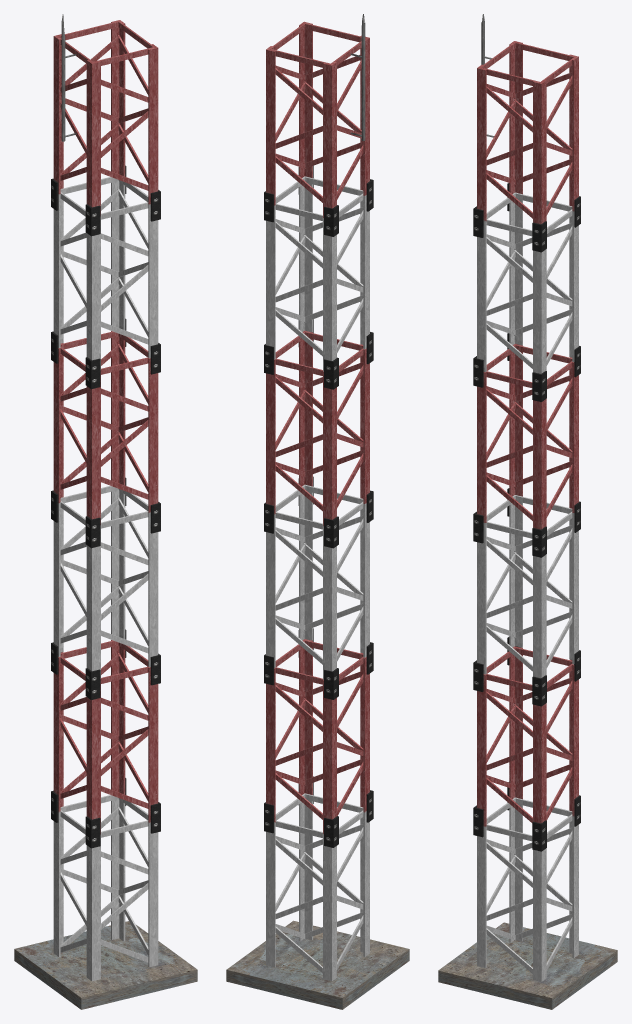
The model's file is radio_tower.glb.
3 renders of one model, left to right at view 1: azimuth 30°, elevation 25°; view 2: azimuth 150°, elevation 25°; view 3: azimuth 330°, elevation 25°, orthographic. The views are drawn at different scales.
Visible parts, largest first — view 1: Torre.005, Torre.002, Torre, Torre.004, Torre.003, Torre.001, BaseConcreto, PinoJuncao, PinoJuncao.004, PinoJuncao.001, PinoJuncao.002, PinoJuncao.003 (+1 smaller); view 2: Torre.005, Torre.002, Torre, Torre.004, Torre.003, Torre.001, BaseConcreto, PinoJuncao.002, PinoJuncao.004, PinoJuncao.003, PinoJuncao.001, PinoJuncao (+1 smaller); view 3: Torre.005, Torre.002, Torre, Torre.004, Torre.003, Torre.001, BaseConcreto, PinoJuncao.001, PinoJuncao.004, PinoJuncao.002, PinoJuncao.003, PinoJuncao.
Part boxes in pixels (bbox=[...]): Torre.005: bbox=[53, 20, 158, 215]; Torre.002: bbox=[53, 331, 158, 524]; Torre: bbox=[53, 795, 158, 981]; Torre.004: bbox=[53, 177, 158, 369]; Torre.003: bbox=[53, 486, 158, 678]; Torre.001: bbox=[53, 640, 158, 834]; BaseConcreto: bbox=[14, 921, 197, 1009]; PinoJuncao: bbox=[51, 778, 160, 848]; PinoJuncao.004: bbox=[51, 165, 160, 236]; PinoJuncao.001: bbox=[51, 629, 160, 699]; PinoJuncao.002: bbox=[51, 477, 160, 548]; PinoJuncao.003: bbox=[51, 318, 160, 389]; Torre.005: bbox=[266, 21, 369, 217]; Torre.002: bbox=[266, 330, 369, 526]; Torre: bbox=[266, 793, 369, 981]; Torre.004: bbox=[266, 176, 369, 371]; Torre.003: bbox=[266, 484, 369, 679]; Torre.001: bbox=[266, 639, 369, 833]; BaseConcreto: bbox=[226, 920, 409, 1009]; PinoJuncao.002: bbox=[264, 476, 373, 548]; PinoJuncao.004: bbox=[264, 166, 373, 236]; PinoJuncao.003: bbox=[264, 319, 373, 389]; PinoJuncao.001: bbox=[264, 628, 373, 699]; PinoJuncao: bbox=[264, 776, 373, 847]; Torre.005: bbox=[477, 41, 578, 224]; Torre.002: bbox=[477, 344, 578, 529]; Torre: bbox=[477, 797, 578, 981]; Torre.004: bbox=[477, 192, 578, 373]; Torre.003: bbox=[477, 495, 578, 678]; Torre.001: bbox=[477, 646, 578, 826]; BaseConcreto: bbox=[438, 922, 617, 1009]; PinoJuncao.001: bbox=[473, 637, 580, 706]; PinoJuncao.004: bbox=[473, 183, 580, 252]; PinoJuncao.002: bbox=[473, 488, 580, 557]; PinoJuncao.003: bbox=[473, 333, 580, 401]; PinoJuncao: bbox=[473, 782, 580, 851].
Size of the model in its own units: 157 by 1253 by 157.
5 materials, 5 textured.
